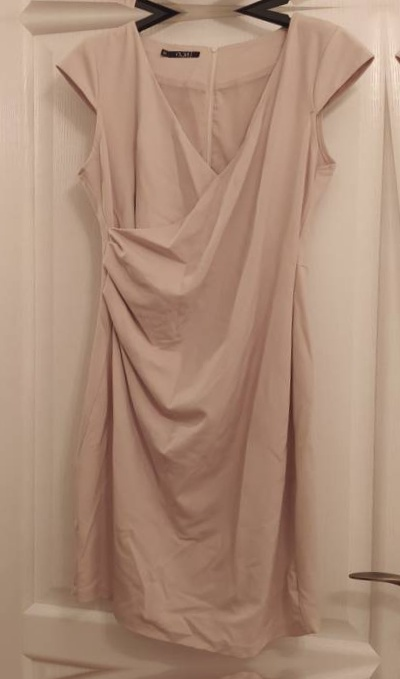Dress: (23, 20, 400, 651), (386, 7, 400, 638), (1, 0, 381, 4)
